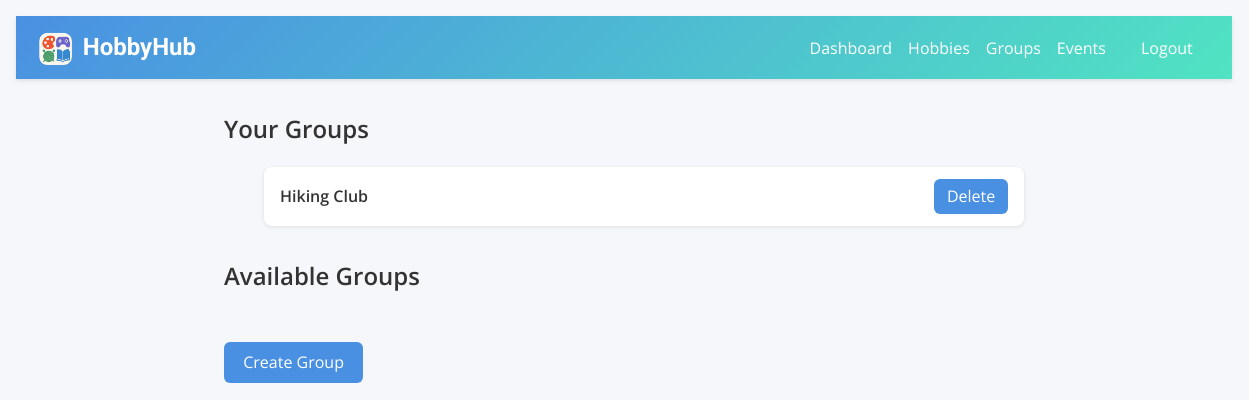
Groups page › refreshes groups after deleting
This screenshot has width=1249, height=400.
Click the button "Delete" at (971, 196), box top-left (934, 179), bottom-right (1008, 214)
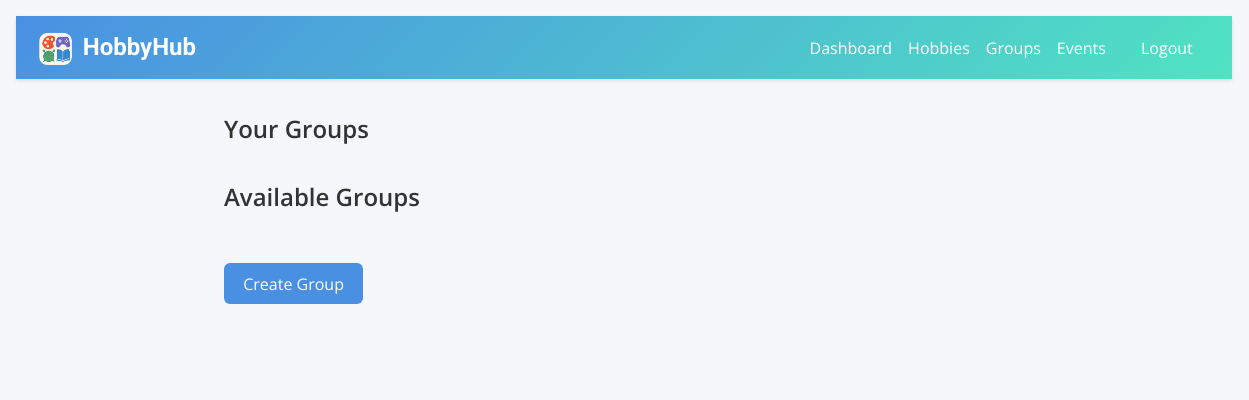
expect the text "Hiking Club" is gone: met
